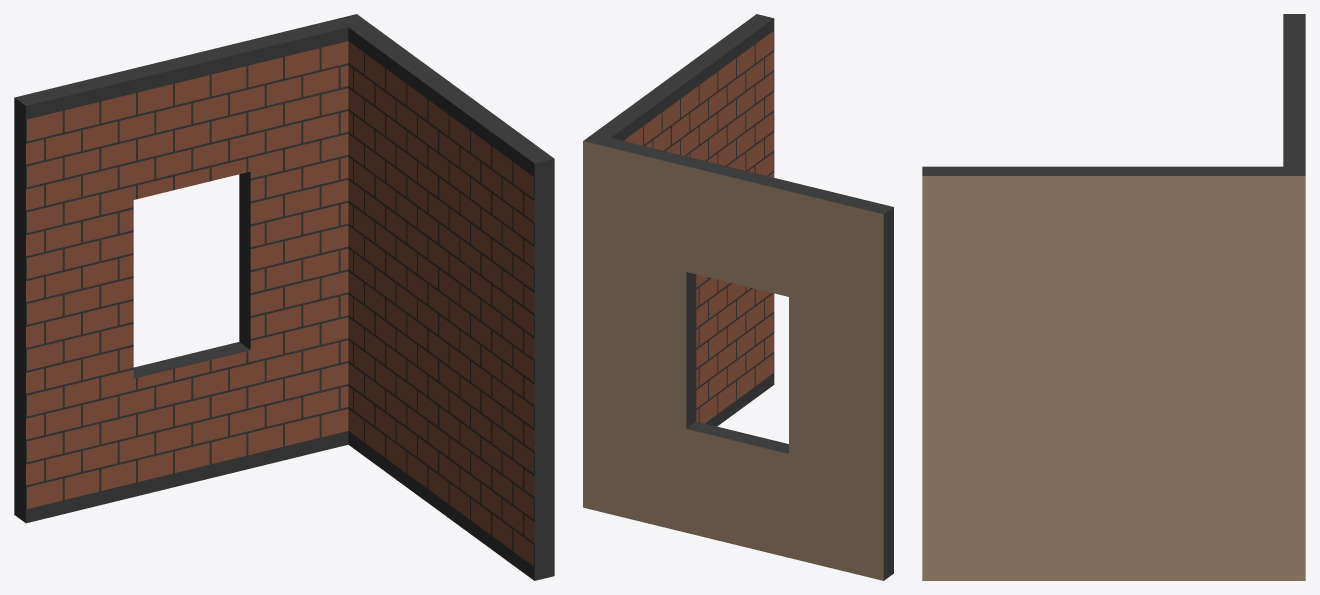
The model's file is Wall2_C10_07.fbx.
3 renders of one model, left to right at view 1: azimuth 30°, elevation 25°; view 2: azimuth 150°, elevation 25°; view 3: azimuth 270°, elevation 25°, orthographic. The views are drawn at different scales.
Parts seen in each view (by area): view 1: Wall2_C10_07; view 2: Wall2_C10_07; view 3: Wall2_C10_07.
Part boxes in pixels (bbox=[...]): Wall2_C10_07: bbox=[14, 14, 554, 580]; Wall2_C10_07: bbox=[583, 14, 893, 580]; Wall2_C10_07: bbox=[922, 14, 1305, 580].
Size of the model in its own units: 258 by 300 by 258.
